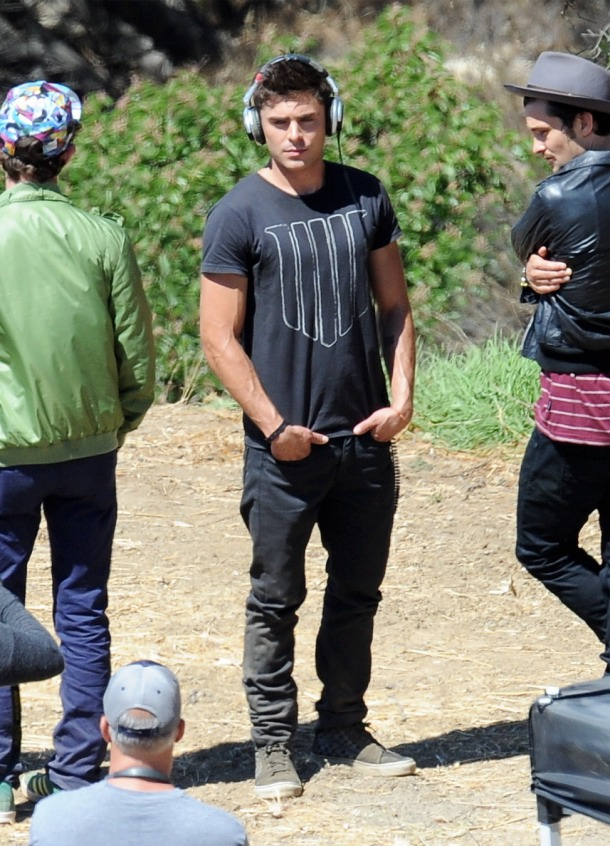Person: (196, 47, 419, 800), (1, 74, 157, 827)
